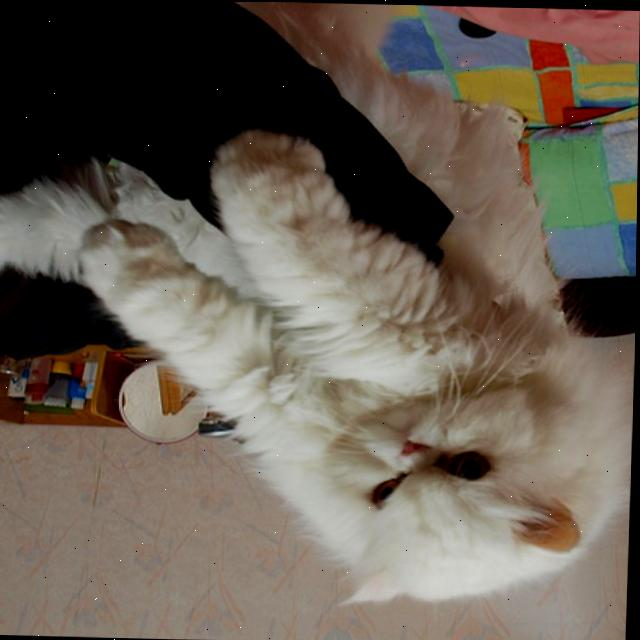Persian: (0, 119, 639, 616)
